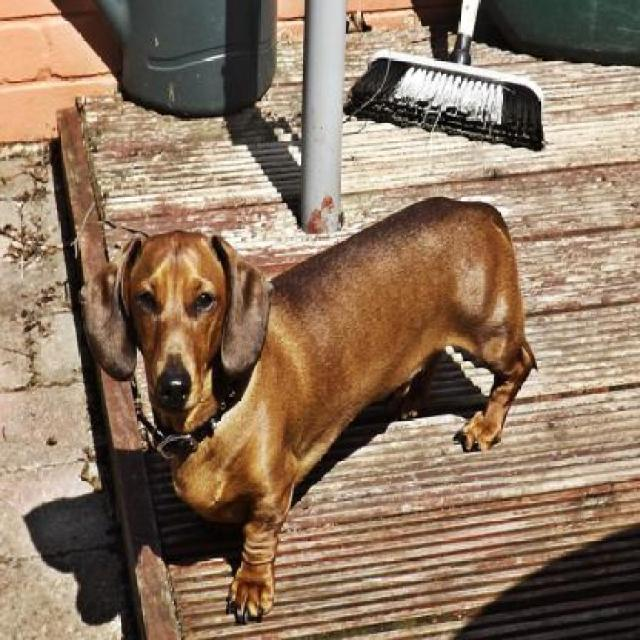Dog: (74, 188, 541, 620)
